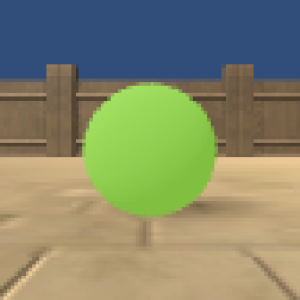goodGoal: (77, 74, 223, 220)
